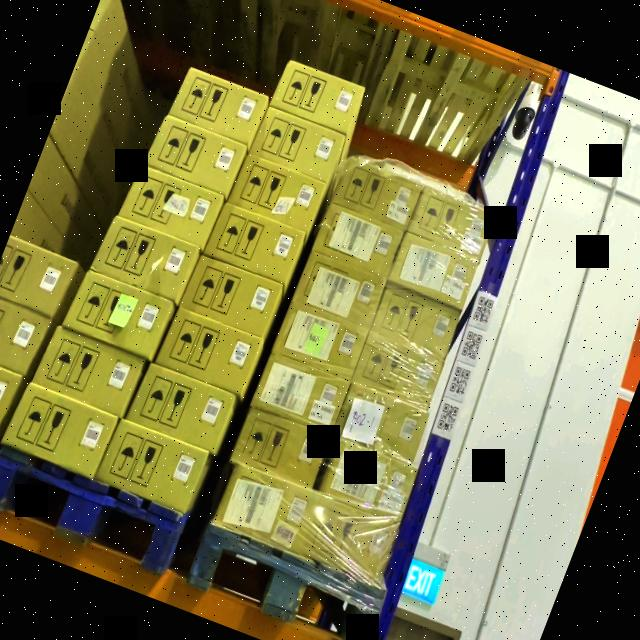box: (0, 384, 117, 480), (93, 419, 209, 515), (125, 363, 236, 454), (61, 270, 172, 361), (32, 326, 143, 417), (214, 464, 321, 555), (154, 307, 263, 396), (90, 217, 200, 304), (300, 493, 402, 583), (117, 165, 225, 250), (178, 253, 283, 337), (228, 408, 331, 491), (143, 115, 246, 197), (251, 353, 351, 436), (331, 382, 429, 466), (320, 438, 418, 521), (206, 202, 306, 283), (167, 67, 268, 147), (272, 300, 368, 380), (291, 250, 387, 329), (228, 156, 327, 232), (269, 58, 365, 134), (249, 107, 345, 182), (352, 333, 444, 410), (388, 232, 479, 309), (312, 203, 404, 279), (370, 283, 461, 358), (330, 159, 421, 233), (407, 187, 495, 260)
